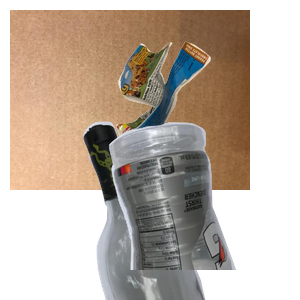cardboard: (10, 10, 250, 190)
glass: (81, 120, 300, 300)
plastic: (106, 120, 300, 300)
trash: (114, 39, 300, 188)
